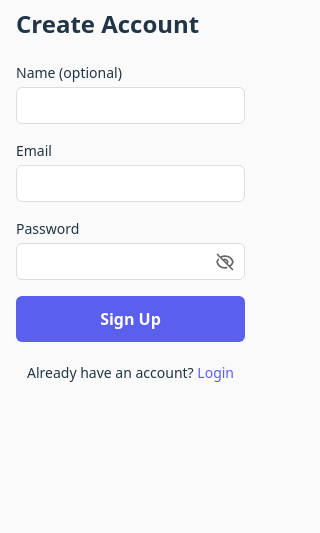
Test: Signup Page › Password Strength Indicator › shows weak strength for short password
Type "abc" into the password field labelled "Password" at (130, 262), box [16,243,245,280]
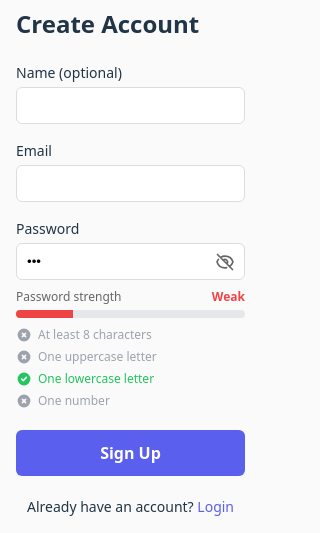
Check: the text "Weak" is shown, box [212,288,245,306]
